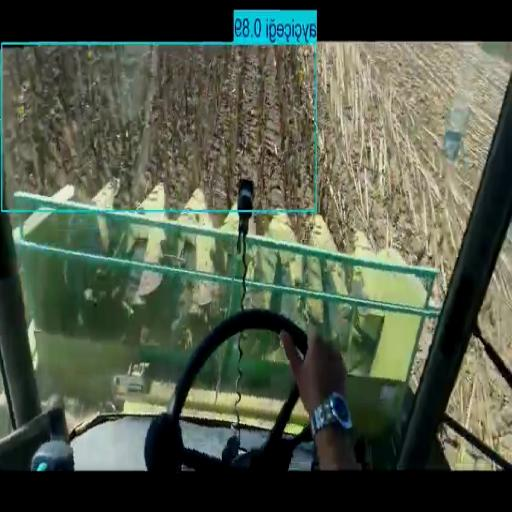ayc: (4, 46, 315, 208)
